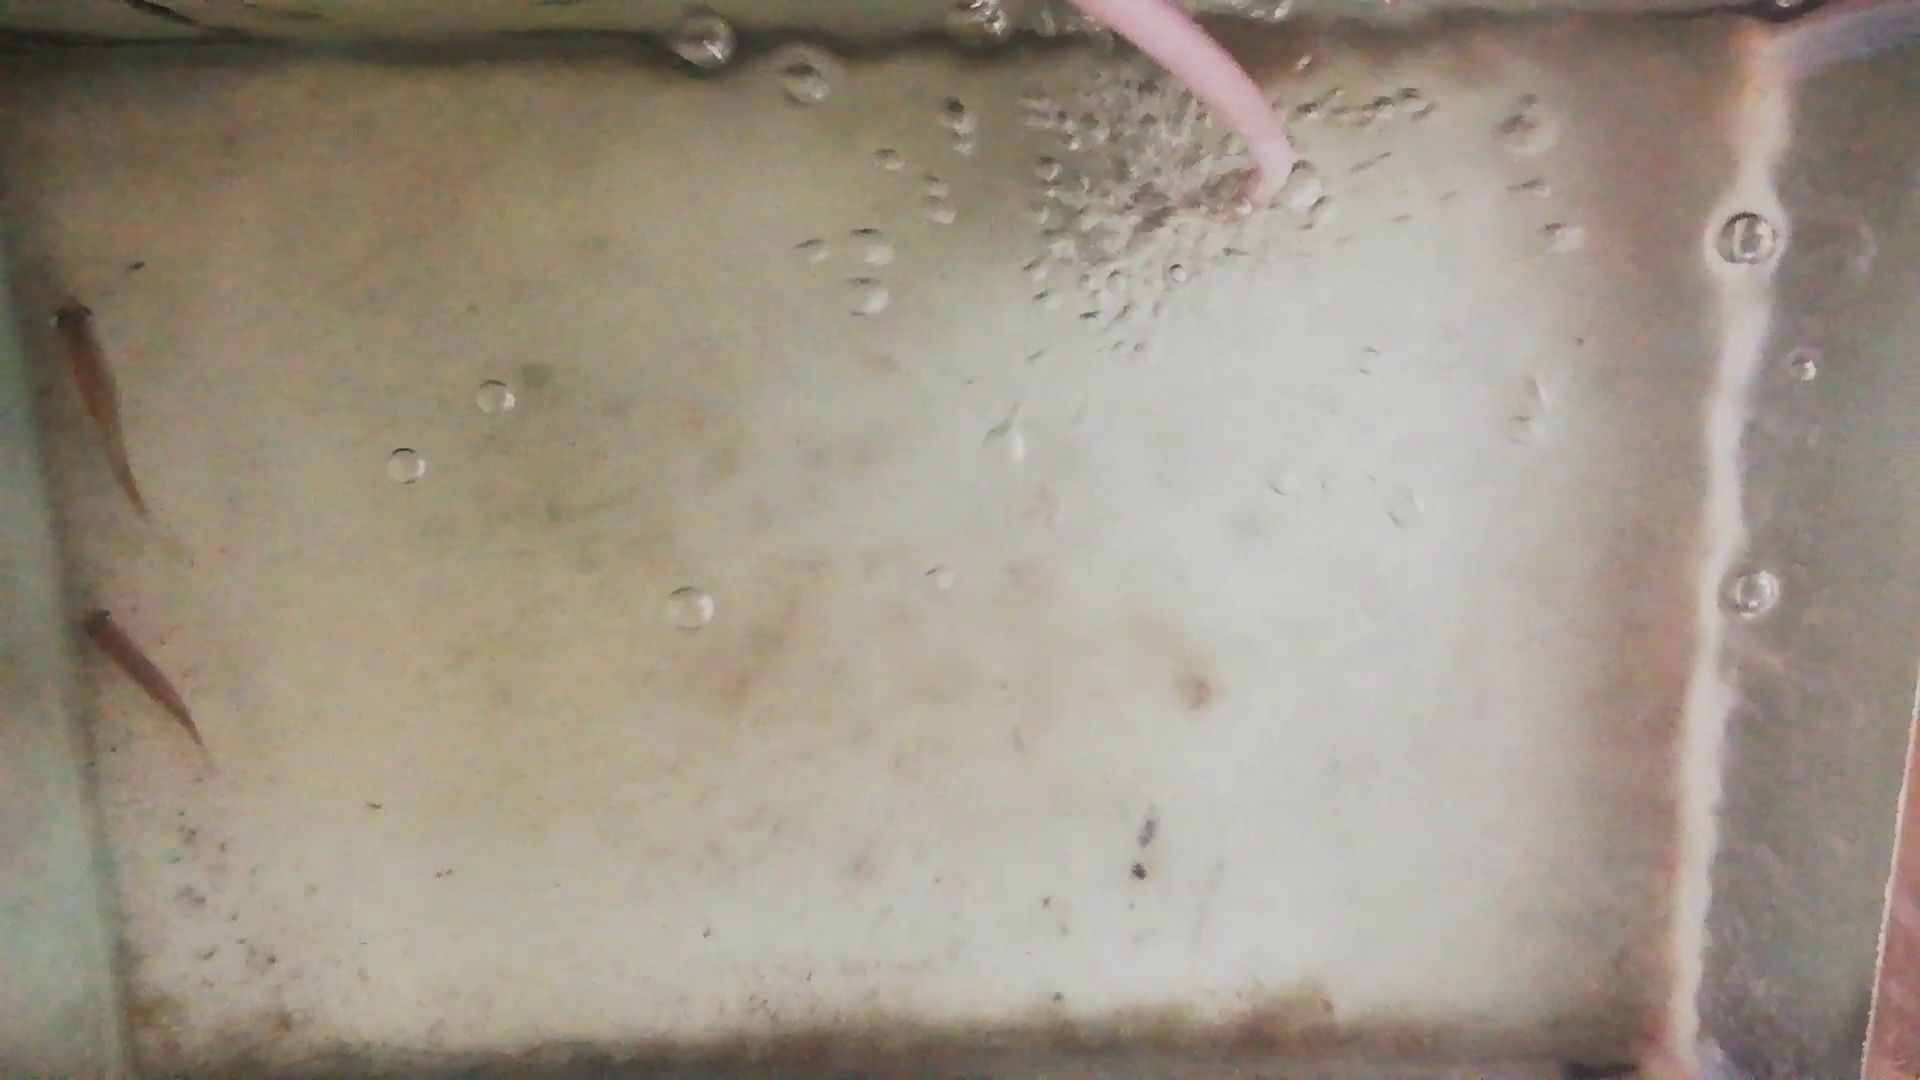fish: (55, 294, 154, 522), (75, 611, 203, 750)
